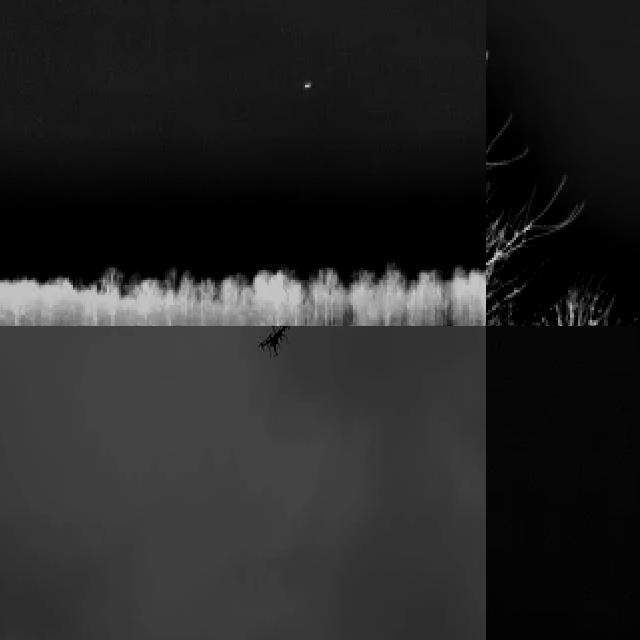1: (294, 70, 328, 108)
drone: (251, 326, 294, 358)
